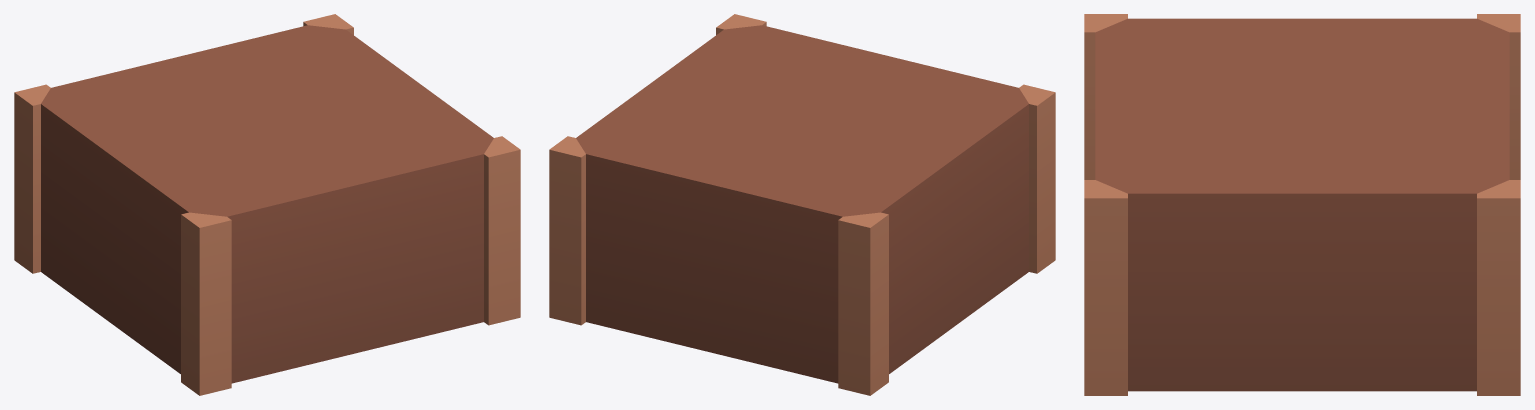
Rendered from wall-wood-block-half.glb.
3 views of the same model, side by side, from view 1: azimuth 30°, elevation 25°; view 2: azimuth 150°, elevation 25°; view 3: azimuth 270°, elevation 25° (orthographic). The views are drawn at different scales.
Parts seen in each view (by area): view 1: wall-wood-block-half; view 2: wall-wood-block-half; view 3: wall-wood-block-half.
Part boxes in pixels (box(x1,y1,x2,y2)): wall-wood-block-half: box(14, 14, 520, 395); wall-wood-block-half: box(549, 14, 1055, 395); wall-wood-block-half: box(1084, 14, 1520, 395).
Bounding box in the file's own units: 1 × 0.5 × 1.
1 material, 1 textured.
